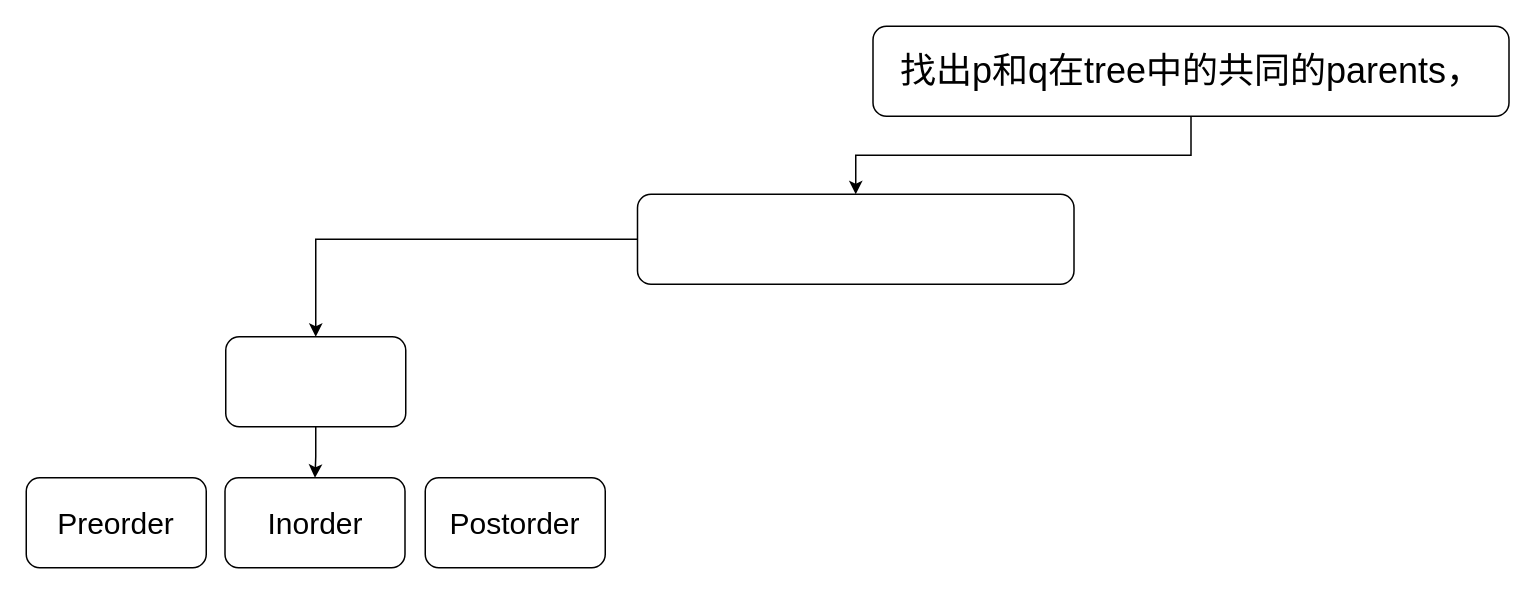
This 1536x594 diagram has some shape labels left out. Here are the shapes that lost their labels. From the top down, the box of each, then its label:
(636, 193, 1074, 284): 找出p和q在tree中的position
(224, 335, 406, 427): 使用Traversal
